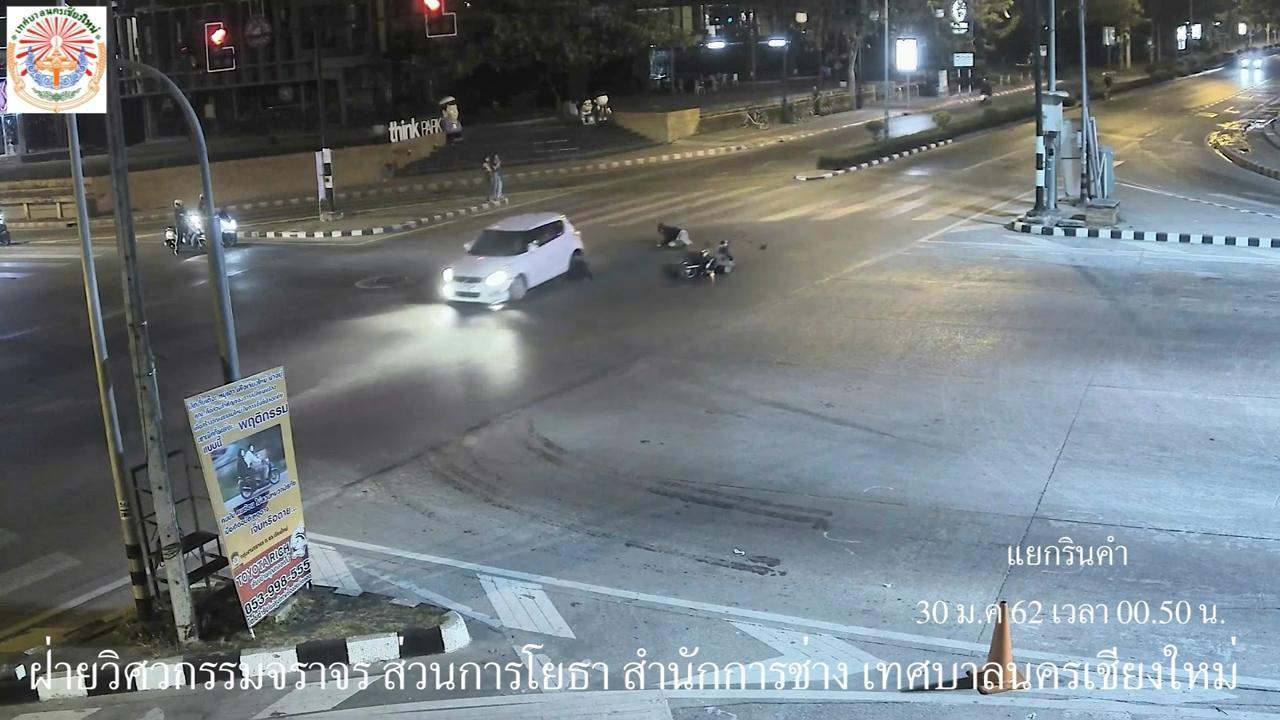accident: (652, 220, 698, 249)
